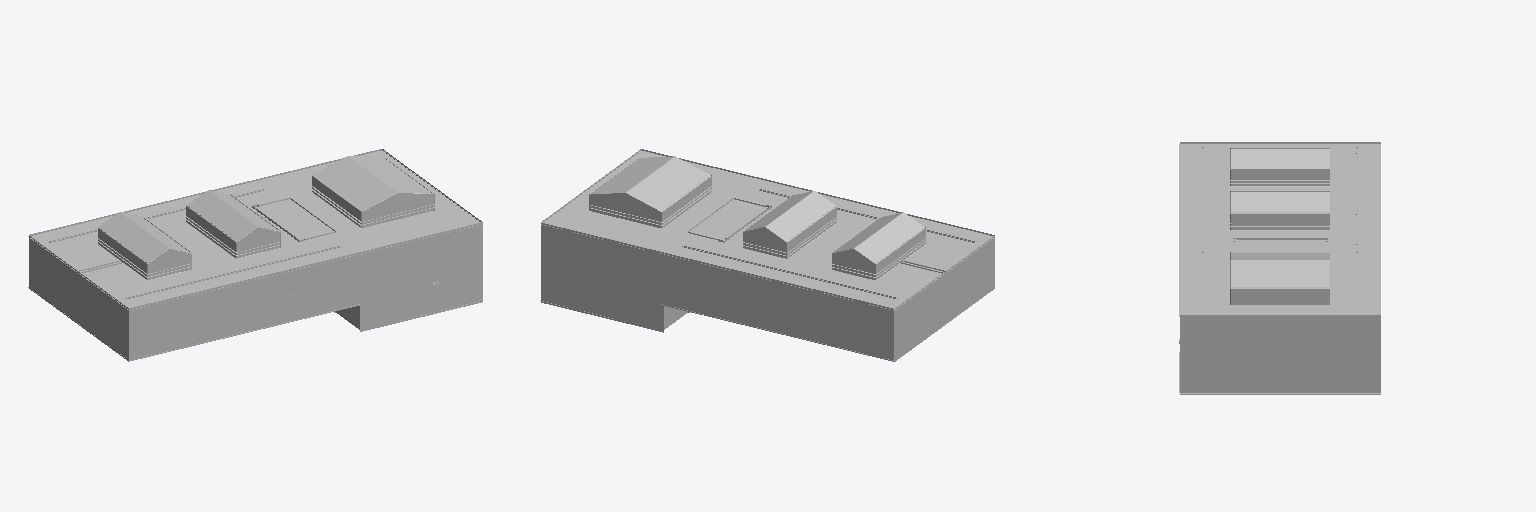
Rendered from gallery.obj.
3 views of the same model, side by side, from view 1: azimuth 30°, elevation 25°; view 2: azimuth 150°, elevation 25°; view 3: azimuth 270°, elevation 25° (orthographic).
Visible parts, largest first — view 1: ceiling_walls_0, walls_walls_0, corner_details_0, skyLight_details_0; view 2: ceiling_walls_0, walls_walls_0, skyLight_details_0, corner_details_0; view 3: ceiling_walls_0, walls_walls_0, skyLight_details_0, corner_details_0.
Part boxes in pixels (x1,y1,x2,y2): ceiling_walls_0: (28,150,480,307); walls_walls_0: (29,149,482,361); corner_details_0: (28,150,481,361); skyLight_details_0: (96,157,434,277); ceiling_walls_0: (542,151,992,309); walls_walls_0: (541,149,994,361); skyLight_details_0: (587,157,926,277); corner_details_0: (540,150,993,360); ceiling_walls_0: (1180,144,1379,314); walls_walls_0: (1180,142,1380,394); skyLight_details_0: (1229,148,1331,301); corner_details_0: (1179,143,1380,393).
Bounding box in the file's own units: 30.6 × 8.72 × 15.12.